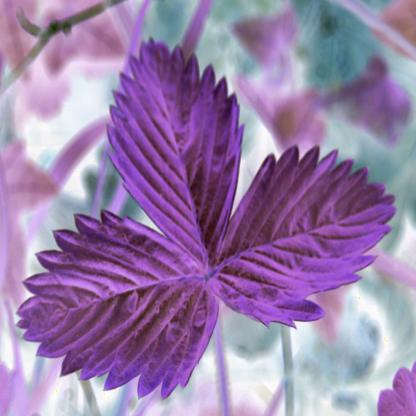Strawberry leaf: (13, 204, 221, 394), (217, 140, 398, 336), (104, 34, 244, 267)
